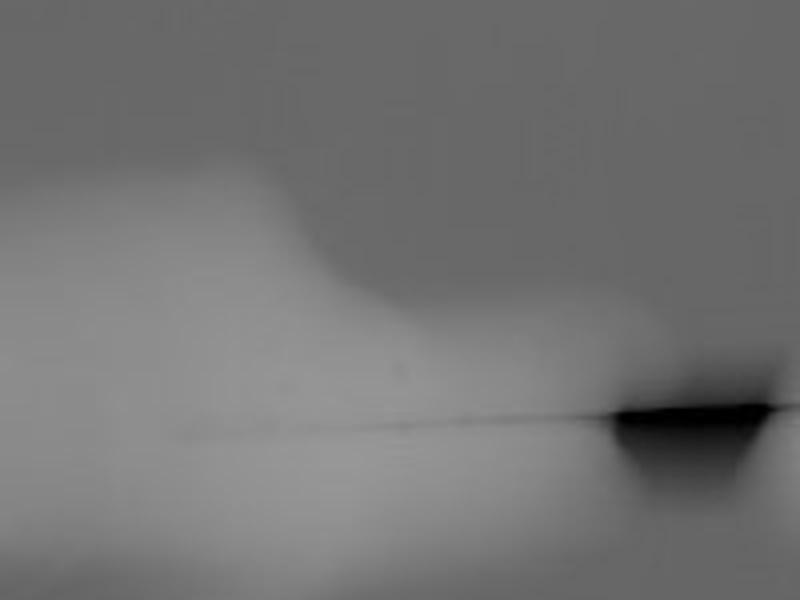defect: (614, 402, 774, 469)
